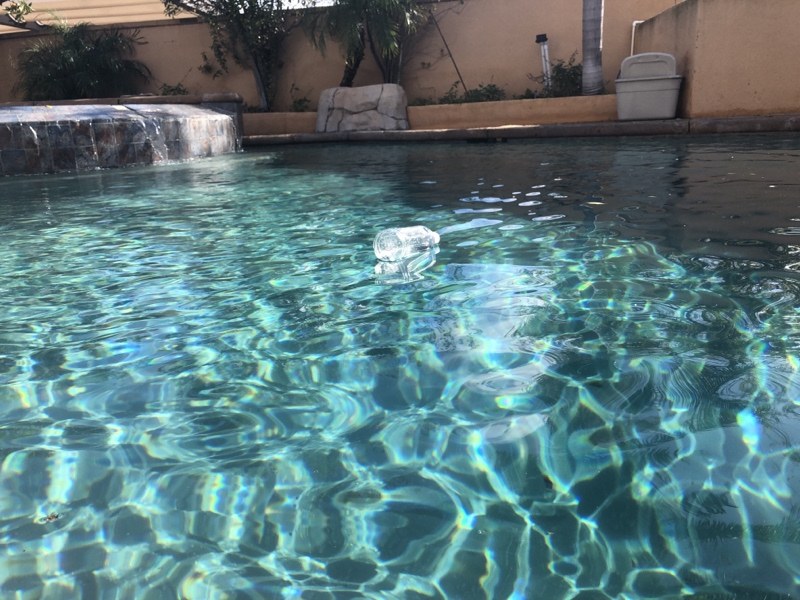Plastic Bottle: (371, 221, 442, 263)
